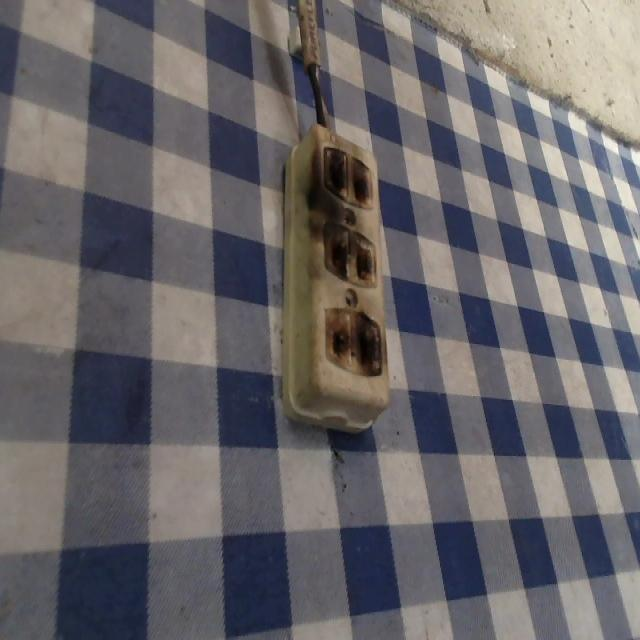-: (321, 303, 386, 380), (318, 217, 380, 291), (323, 138, 376, 210)
